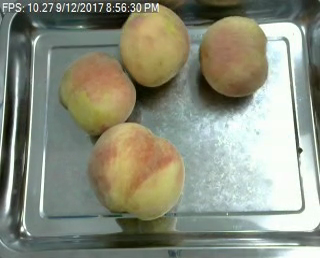Peach: (87, 122, 184, 220), (57, 50, 136, 134), (118, 3, 190, 88), (198, 15, 269, 97)
